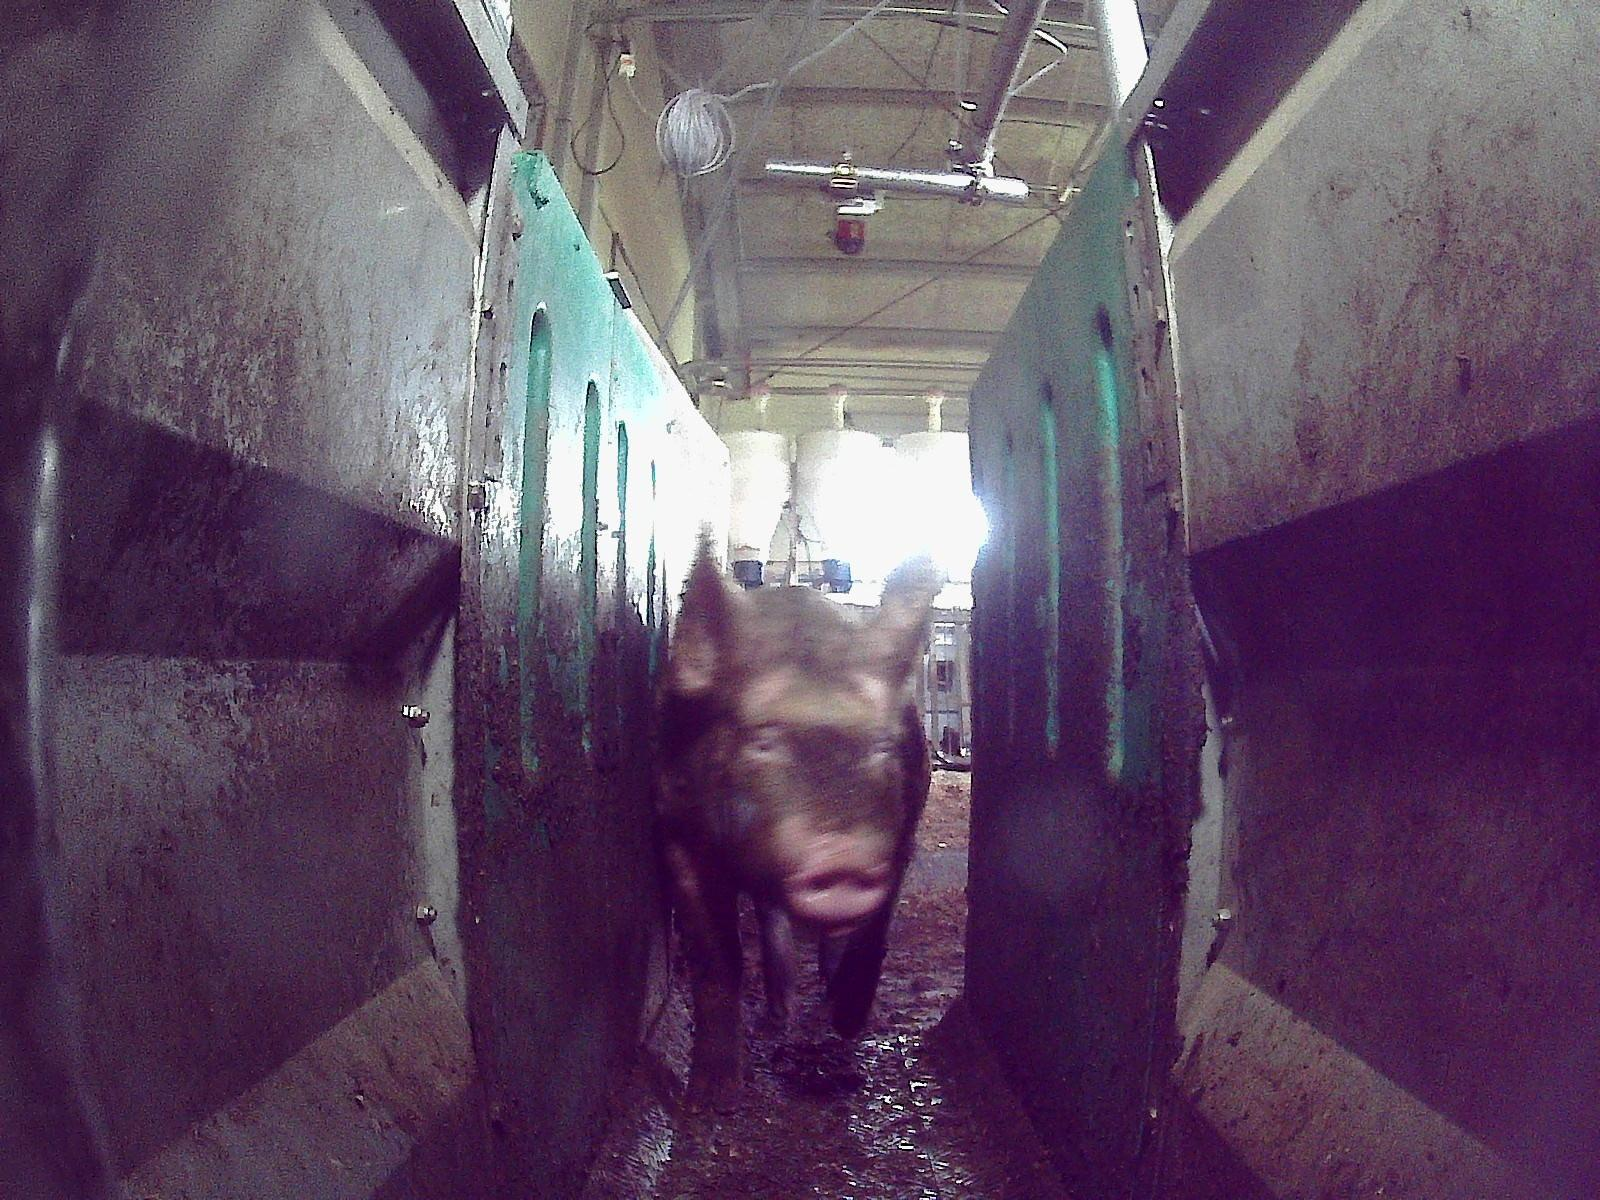Face: (711, 612, 909, 934)
